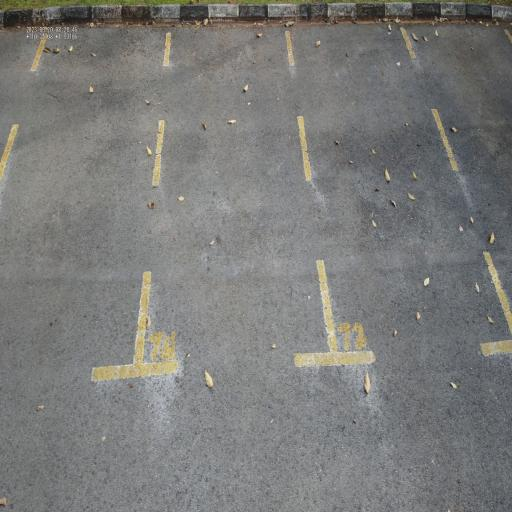Empty: (128, 6, 338, 384)
